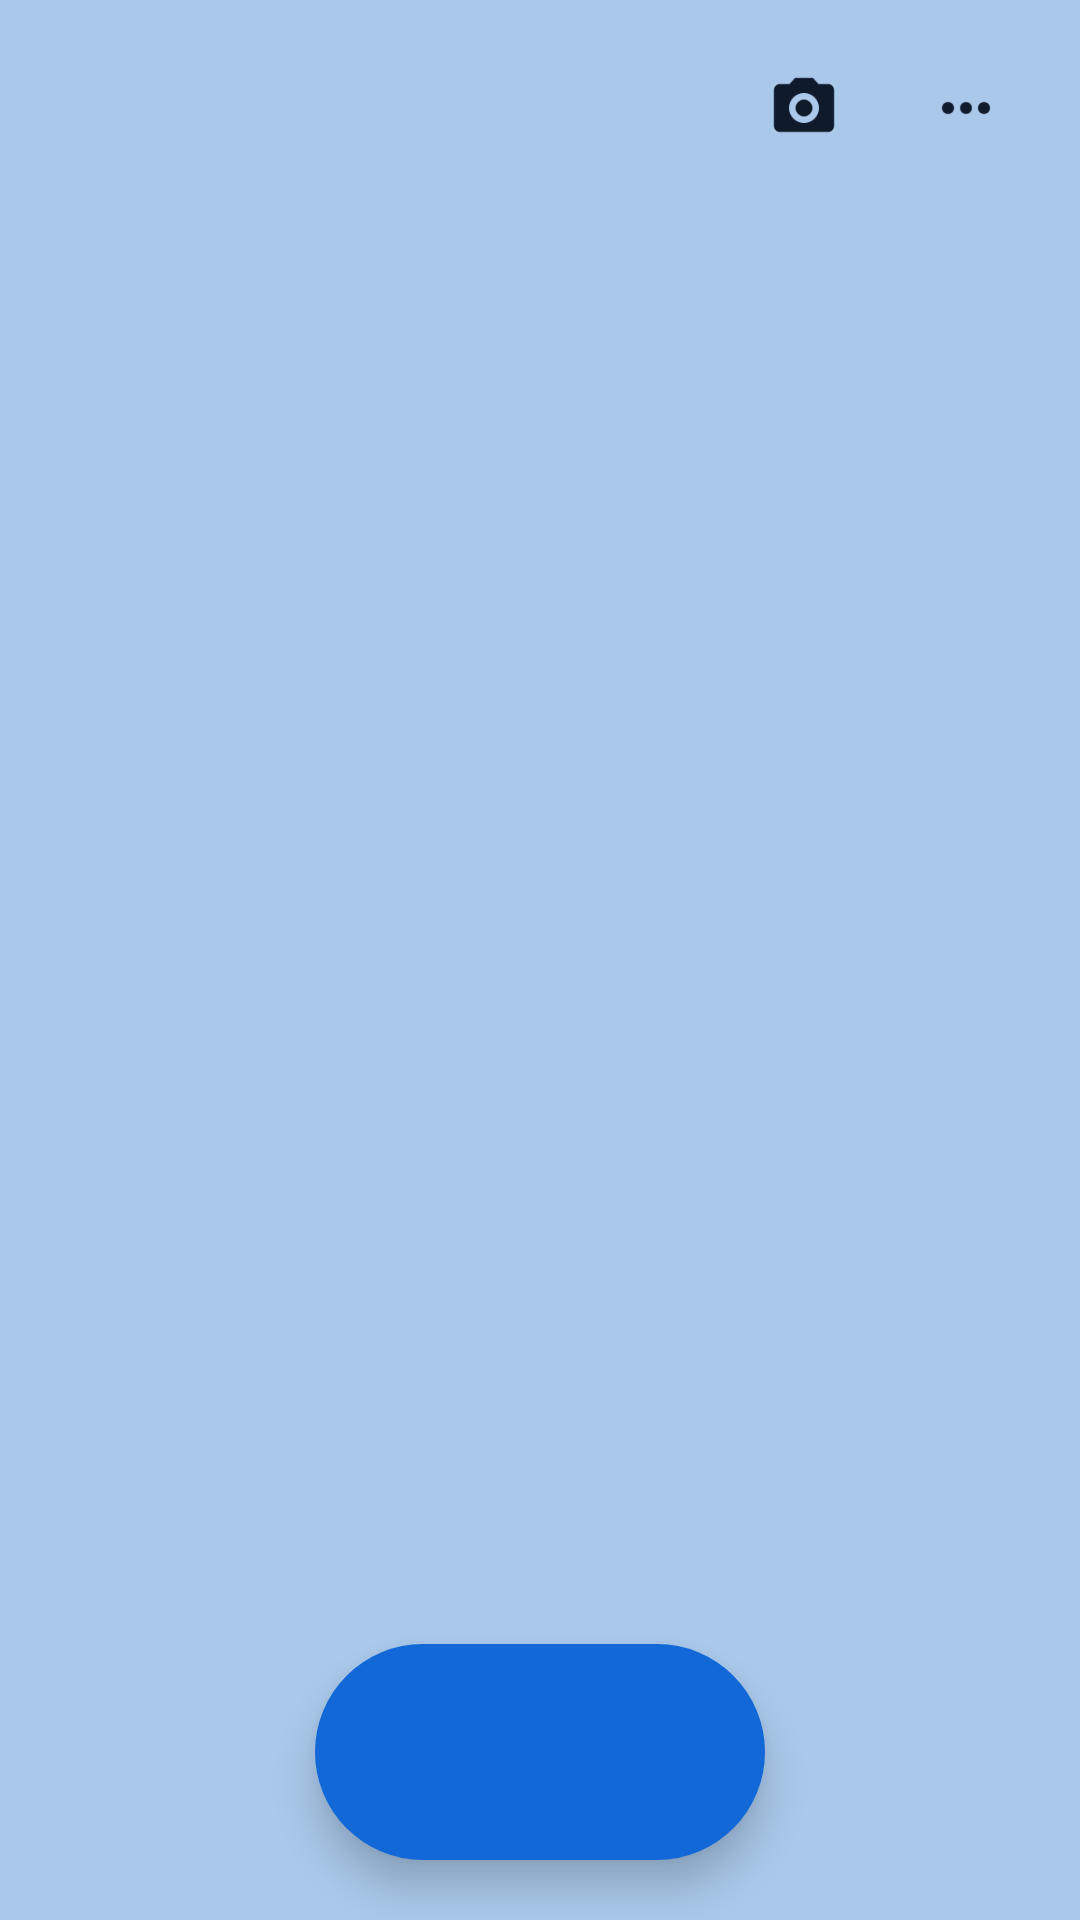

Locate icon controls on the screen. Image size 1080w x 1920h, boxes as bbox(x1, y1, x2, y2).
Add fields from a photo or spreadsheet: bbox(773, 77, 835, 133)
Checklist options: bbox(941, 102, 991, 114)
